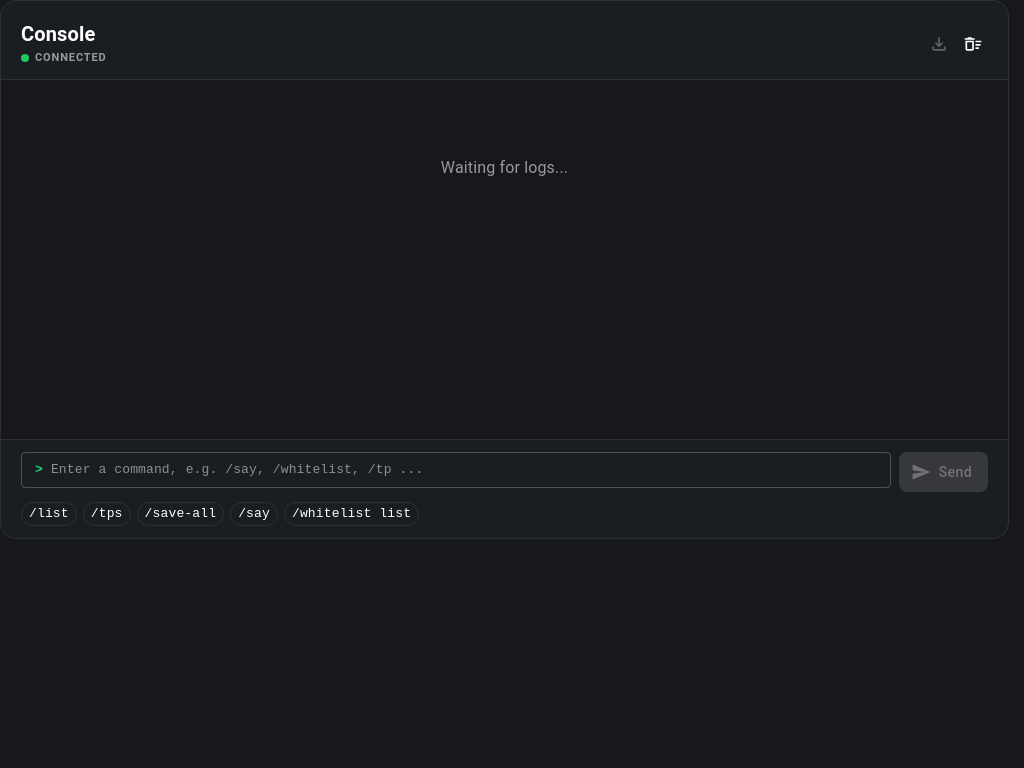
Scenario: OverviewConsole › shows a failed send inline and keeps the command
Type "/list" into the field named "Console command" at [471, 470], box top-left (51, 452), bottom-right (891, 488)
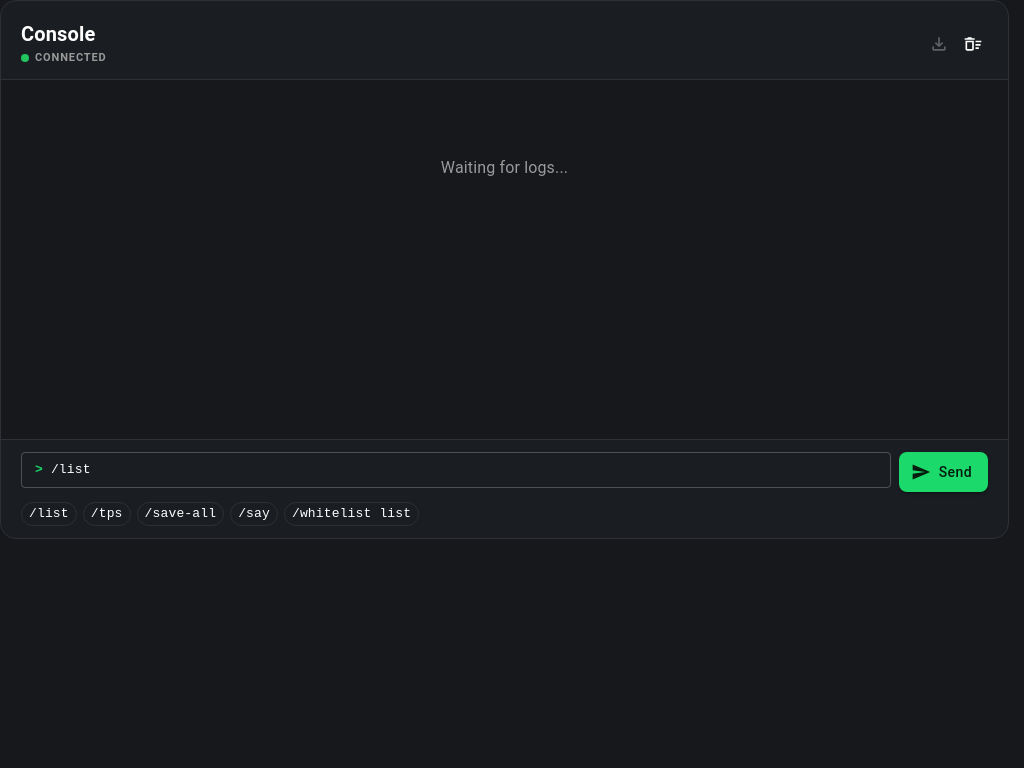
Click the button with aria-label "Send command" at [943, 472], box top-left (899, 452), bottom-right (988, 492)
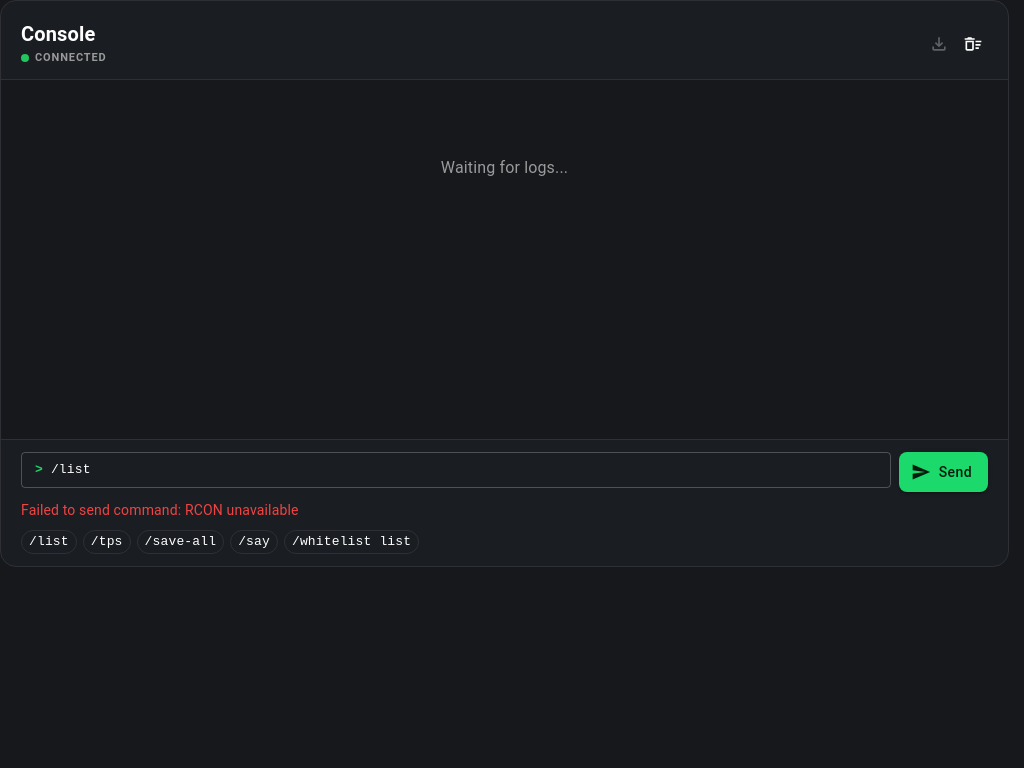
Expected: the message shows "RCON unavailable", top-left (21, 502), bottom-right (298, 518)
